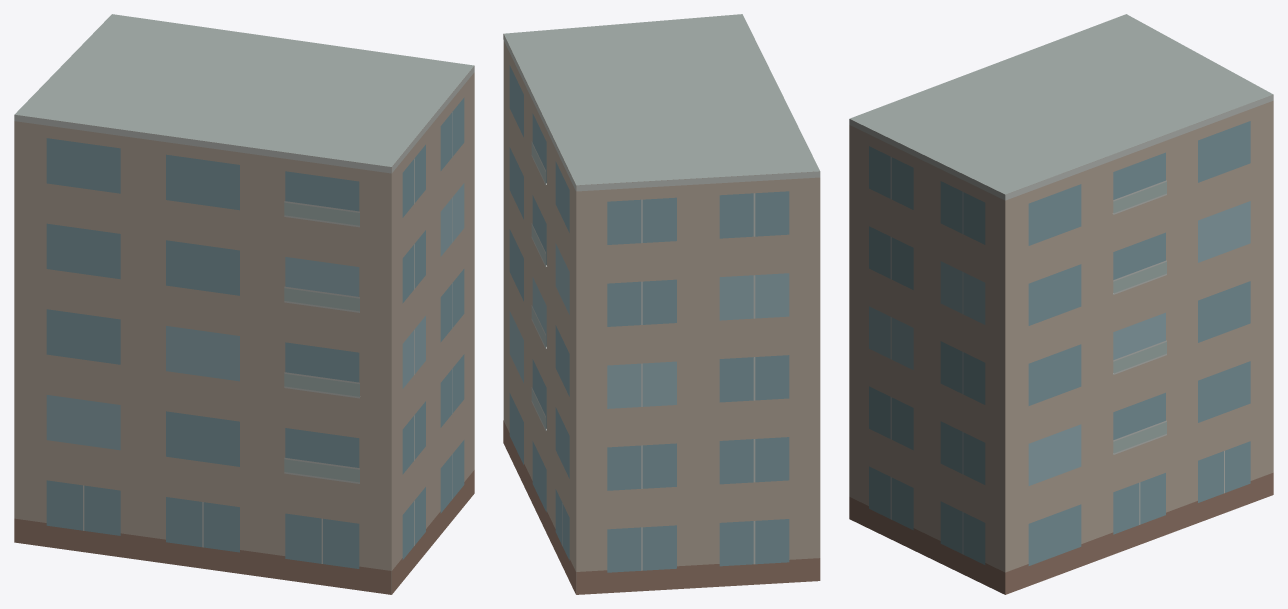
The model's file is survey-upis-32923699.glb.
The picture shows the model from 3 angles, left to right: view 1: azimuth 30°, elevation 25°; view 2: azimuth 150°, elevation 25°; view 3: azimuth 270°, elevation 25°; orthographic projection. The views are drawn at different scales.
Parts seen in each view (by area): view 1: survey-upis-32923699.tmp; view 2: survey-upis-32923699.tmp; view 3: survey-upis-32923699.tmp.
Part boxes in pixels (x1=…): survey-upis-32923699.tmp: x1=14, y1=14, x2=474, y2=594; survey-upis-32923699.tmp: x1=503, y1=14, x2=820, y2=594; survey-upis-32923699.tmp: x1=849, y1=14, x2=1273, y2=594.
Size of the model in its own units: 15.68 by 16.2 by 15.57.
